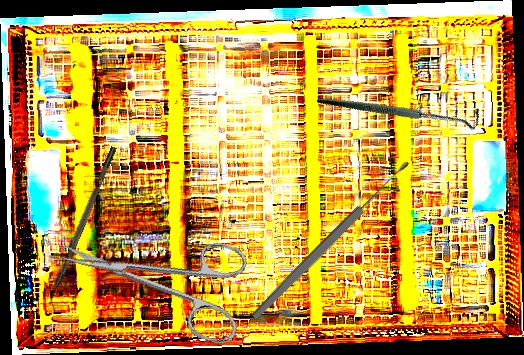Chopper: (43, 146, 125, 311)
Hook Surgical: (316, 29, 486, 186)
Iris Scissors: (49, 201, 259, 348)
Surgical Spoon: (249, 158, 413, 322)
